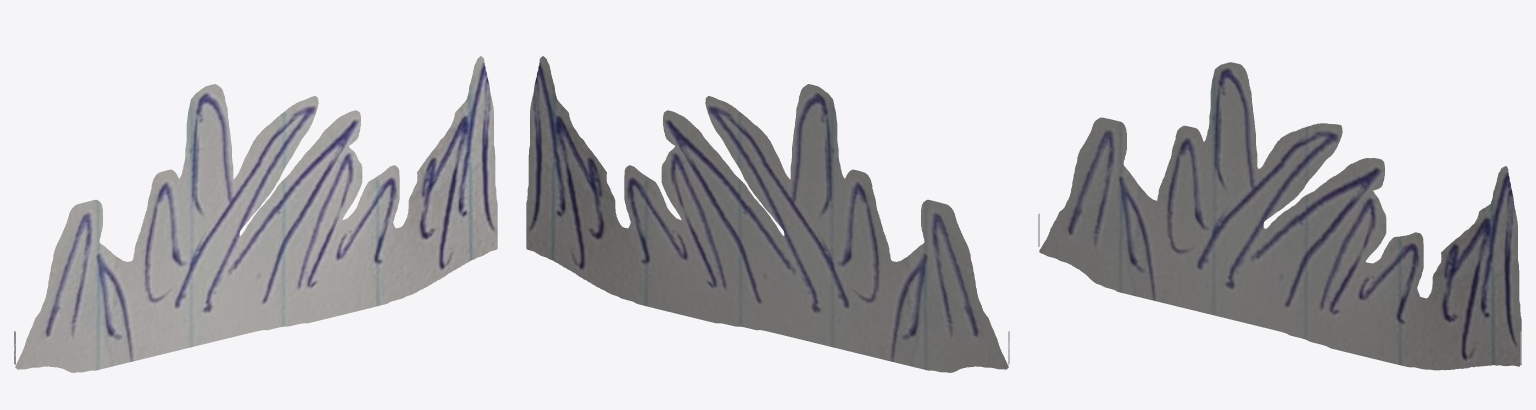
File: GRAS.fbx
3 renders of one model, left to right at view 1: azimuth 30°, elevation 25°; view 2: azimuth 150°, elevation 25°; view 3: azimuth 330°, elevation 25°, orthographic.
Visible parts, largest first — view 1: Plane; view 2: Plane; view 3: Plane.
Boxes of the visible parts, x1,y1,x2,y2 form: Plane: (14,56,497,372); Plane: (526,56,1009,372); Plane: (1038,62,1521,370).
Size of the model in its own units: 657 by 343 by 3.61.
1 material, 1 textured.
